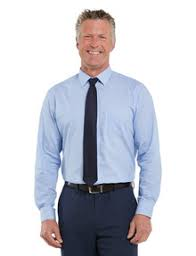F_belt: (60, 174, 139, 196)
F_shirt: (26, 64, 159, 214)
F_tie: (82, 76, 101, 189)
